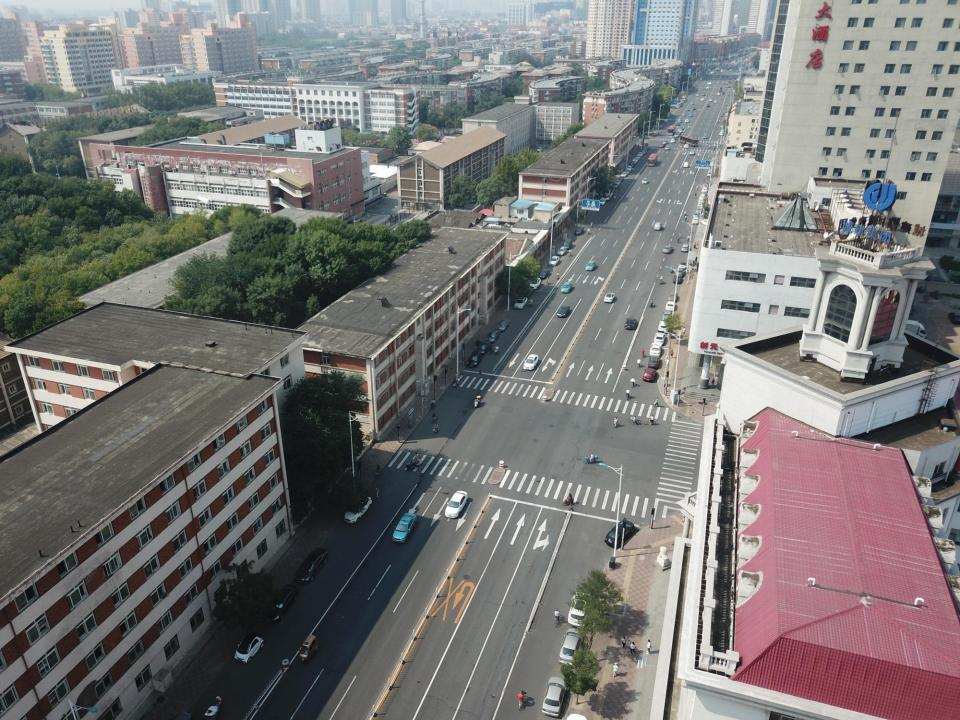bus: (601, 184, 615, 200), (680, 135, 698, 147), (648, 153, 658, 166), (668, 126, 675, 135), (724, 81, 729, 88)
car: (262, 581, 298, 621), (298, 546, 326, 582), (558, 630, 583, 668), (235, 633, 264, 663), (604, 518, 634, 547), (542, 677, 564, 714), (567, 590, 590, 625), (444, 489, 470, 518), (342, 495, 368, 524), (392, 511, 416, 542), (524, 354, 539, 371), (652, 331, 669, 346), (656, 319, 673, 333), (602, 290, 616, 304), (624, 316, 637, 331), (466, 352, 479, 367), (557, 306, 572, 318), (496, 318, 509, 331), (642, 367, 654, 381), (647, 356, 661, 368), (486, 331, 500, 343), (515, 296, 527, 309), (475, 342, 488, 354), (529, 278, 541, 290), (648, 343, 660, 355), (664, 300, 677, 311), (584, 260, 596, 271), (561, 282, 573, 293), (659, 310, 673, 319), (667, 291, 678, 302), (538, 268, 550, 278), (549, 256, 561, 265), (564, 238, 574, 248), (574, 226, 584, 235), (558, 247, 566, 256), (654, 222, 661, 232), (664, 246, 674, 253), (674, 274, 681, 284), (642, 177, 648, 186), (677, 268, 683, 277), (693, 215, 699, 224), (682, 244, 689, 251), (678, 261, 685, 268), (693, 211, 700, 218), (598, 198, 605, 205), (706, 170, 712, 178), (703, 180, 709, 187), (630, 160, 636, 167), (700, 193, 706, 199), (699, 198, 705, 204), (696, 207, 702, 213), (710, 160, 716, 166), (684, 143, 690, 149), (626, 165, 632, 171), (624, 168, 630, 174), (621, 171, 627, 177), (618, 176, 624, 182), (615, 179, 621, 185), (641, 148, 647, 154), (637, 151, 643, 157), (634, 154, 640, 160), (720, 129, 725, 136), (683, 162, 688, 168), (689, 150, 695, 155), (702, 187, 708, 192), (684, 117, 689, 123), (613, 182, 618, 188), (643, 145, 649, 150), (633, 157, 639, 162), (708, 168, 713, 173), (703, 134, 708, 139), (678, 119, 683, 124), (677, 128, 682, 133), (674, 133, 679, 138), (663, 118, 668, 123), (643, 141, 648, 146), (660, 142, 664, 148), (670, 139, 676, 143), (665, 146, 670, 150), (662, 140, 667, 144), (682, 112, 686, 117), (675, 122, 680, 126), (676, 130, 680, 135), (706, 82, 712, 85), (700, 97, 704, 101), (678, 117, 682, 121), (678, 126, 682, 130), (667, 111, 671, 115), (665, 114, 669, 118), (682, 98, 686, 102), (714, 100, 718, 103), (709, 98, 712, 102), (706, 104, 710, 107), (706, 85, 709, 89), (696, 93, 699, 97), (702, 92, 705, 96), (691, 100, 694, 104), (686, 108, 690, 111), (692, 106, 695, 110), (689, 112, 692, 116), (722, 81, 725, 85), (720, 86, 723, 90), (718, 89, 722, 92), (721, 91, 725, 94), (676, 105, 680, 108), (705, 95, 708, 98)
truck: (876, 315, 927, 345)
van: (717, 92, 720, 96)
